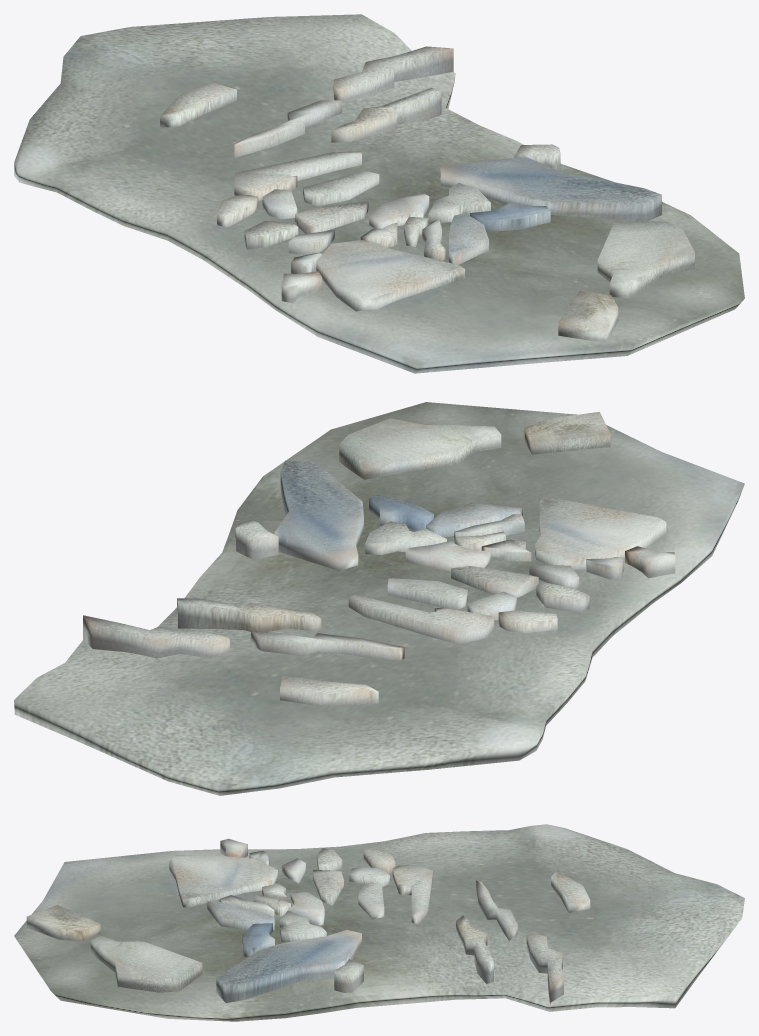
3 renders of one model, top to bottom at view 1: azimuth 30°, elevation 25°; view 2: azimuth 150°, elevation 25°; view 3: azimuth 270°, elevation 25°, orthographic. The views are drawn at different scales.
Visible parts, largest first — view 1: fb2:Group16040, polySurface28; view 2: fb2:Group16040, polySurface28; view 3: fb2:Group16040, polySurface28.
Boxes of the visible parts, x1,y1,x2,y2 form: fb2:Group16040: (14, 14, 744, 373); polySurface28: (160, 46, 694, 356); fb2:Group16040: (14, 402, 744, 795); polySurface28: (83, 412, 675, 706); fb2:Group16040: (14, 824, 744, 1021); polySurface28: (26, 838, 590, 1004).
Size of the model in its own units: 67.28 by 4.93 by 113.
2 materials, 2 textured.
